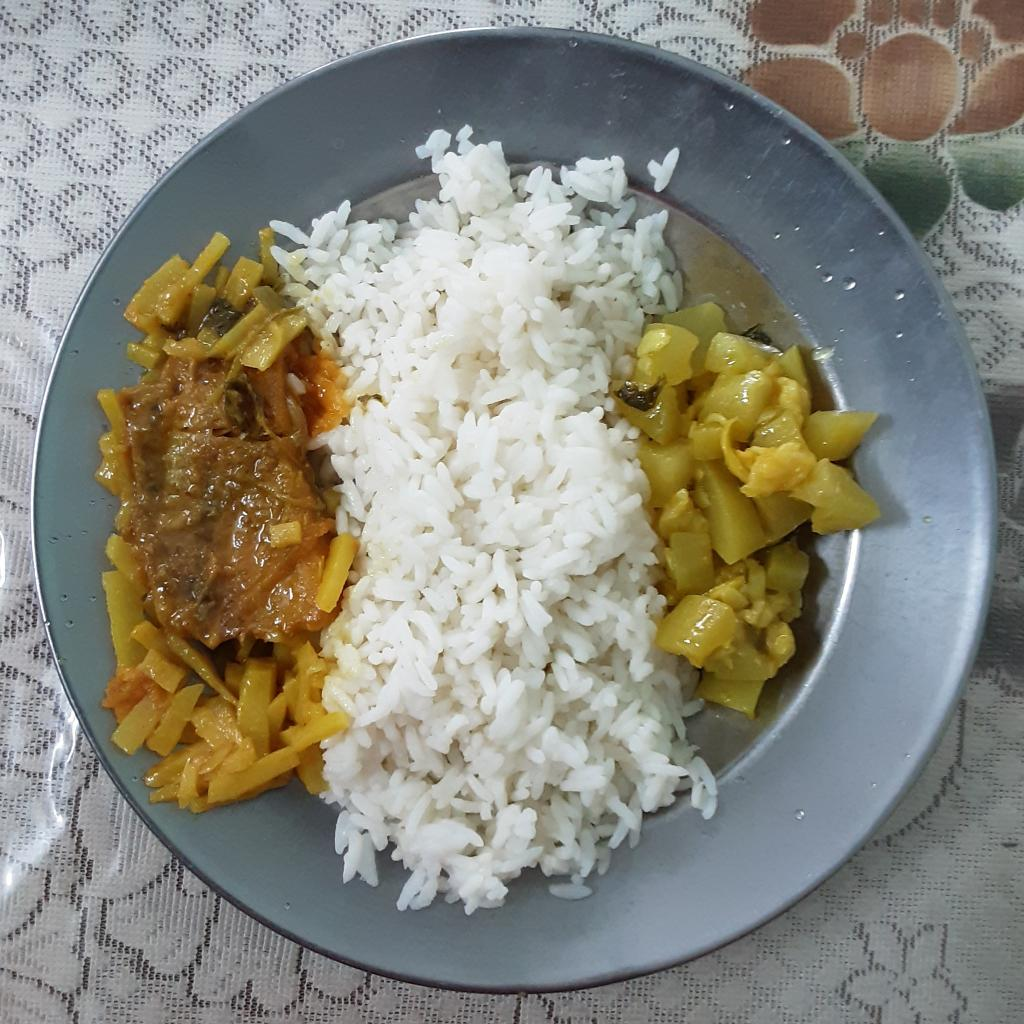fish: (124, 356, 331, 641)
lau: (614, 298, 887, 720)
potato: (98, 526, 353, 814), (121, 231, 310, 423), (98, 389, 140, 492), (325, 522, 358, 619)
rice: (269, 123, 721, 912), (649, 142, 678, 190)
tomato: (301, 353, 348, 434), (100, 665, 155, 716)
